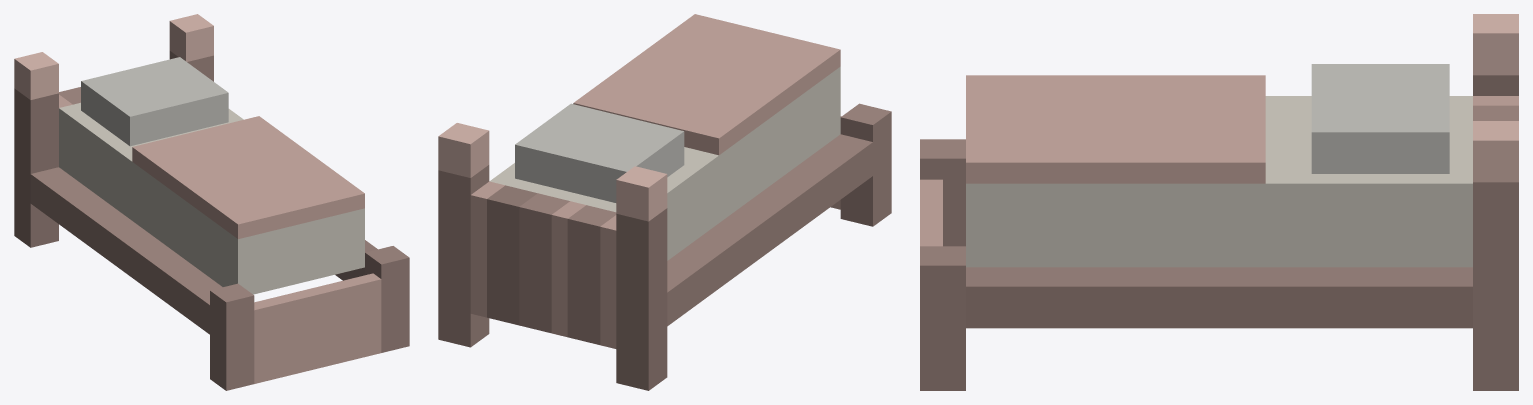
Rendered from cama_individual_desgastada_01.glb.
The picture shows the model from 3 angles, left to right: view 1: azimuth 30°, elevation 25°; view 2: azimuth 150°, elevation 25°; view 3: azimuth 270°, elevation 25°; orthographic projection. The views are drawn at different scales.
Visible parts, largest first — view 1: cama_individual_desgastada; view 2: cama_individual_desgastada; view 3: cama_individual_desgastada.
Part boxes in pixels (x1,y1,x2,y2): cama_individual_desgastada: (14,14,409,390); cama_individual_desgastada: (438,14,891,390); cama_individual_desgastada: (920,14,1518,390).
Bounding box in the file's own units: 1 × 0.9231 × 2.
